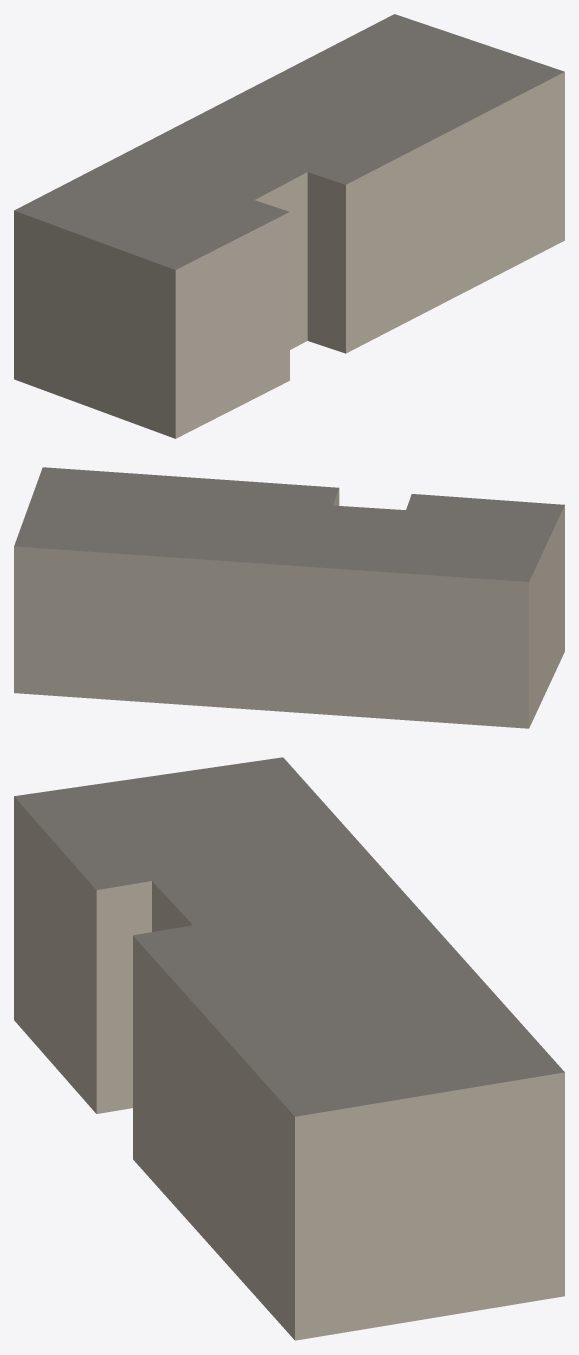
3 renders of one model, top to bottom at view 1: azimuth 30°, elevation 25°; view 2: azimuth 150°, elevation 25°; view 3: azimuth 270°, elevation 25°, orthographic. The views are drawn at different scales.
Visible parts, largest first — view 1: HP-w437405628; view 2: HP-w437405628; view 3: HP-w437405628.
Boxes of the visible parts, bbox=[...] form: HP-w437405628: bbox=[14, 14, 564, 438]; HP-w437405628: bbox=[14, 467, 564, 728]; HP-w437405628: bbox=[14, 757, 564, 1340].
Bounding box in the file's own units: 51.64 × 15 × 33.45.
